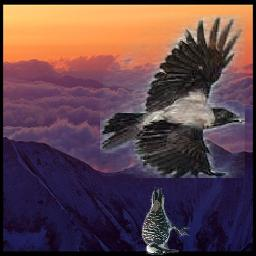Crow: (101, 16, 246, 179)
Woodpecker: (140, 187, 191, 255)
